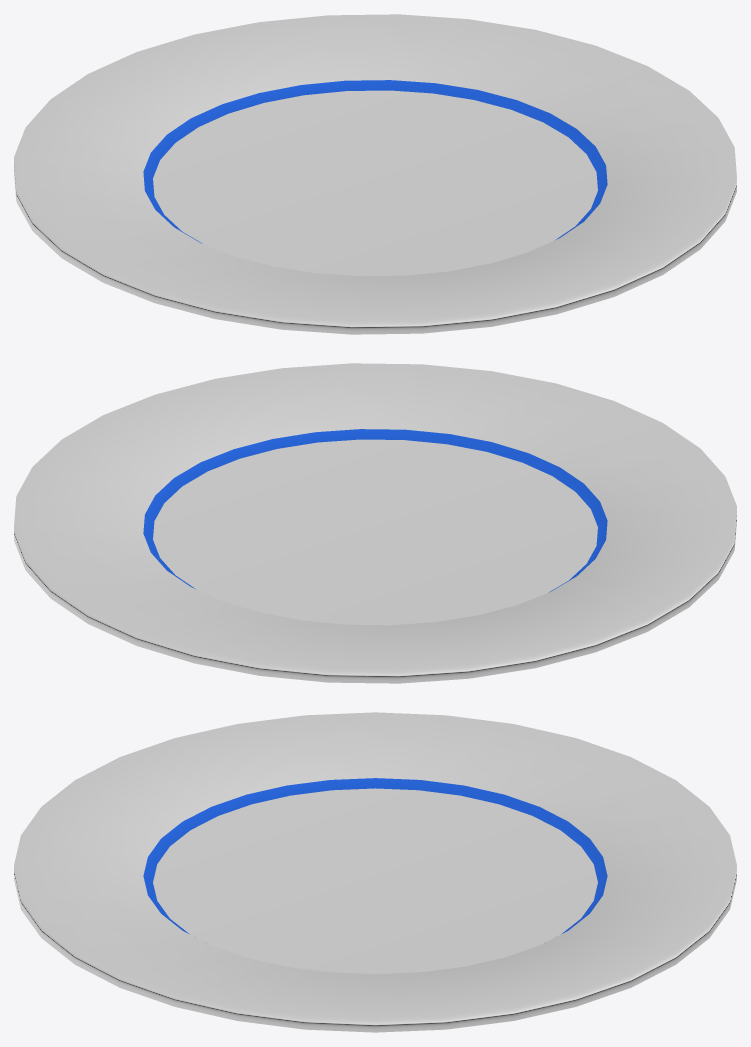
Rendered from single_plate.fbx.
3 views of the same model, one above another, from view 1: azimuth 30°, elevation 25°; view 2: azimuth 150°, elevation 25°; view 3: azimuth 270°, elevation 25° (orthographic).
Visible parts, largest first — view 1: plate; view 2: plate; view 3: plate.
Part boxes in pixels (x1,y1,x2,y2): plate: [14, 14, 736, 334]; plate: [14, 363, 736, 683]; plate: [14, 712, 736, 1032].
Size of the model in its own units: 200 by 9.02 by 200.
